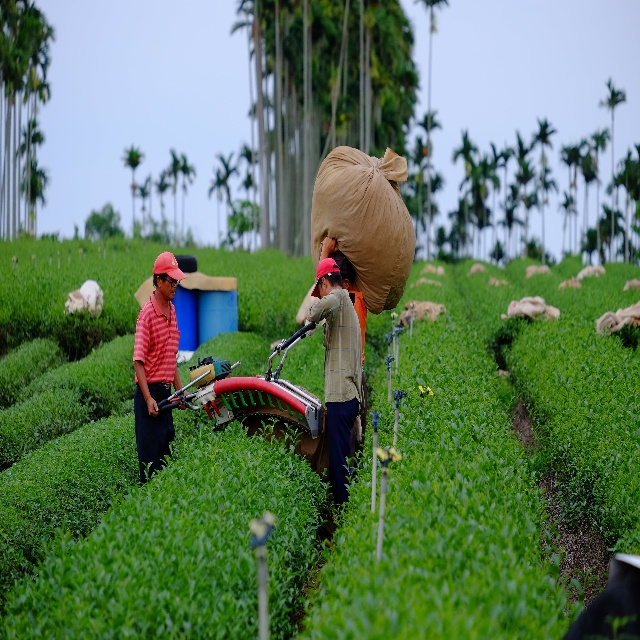Gafas: (164, 276, 180, 287)
Sin_guantes: (322, 236, 338, 256), (178, 390, 193, 411), (148, 397, 159, 416)
